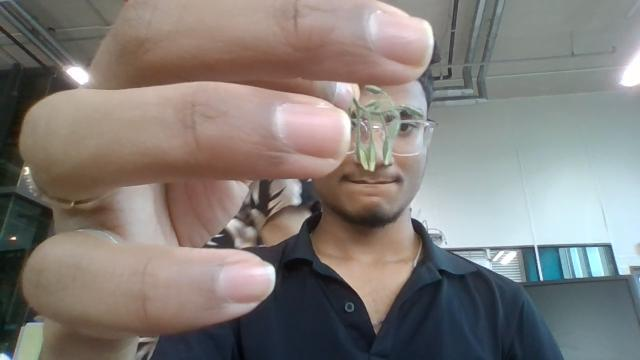Flower Bud: (381, 124, 393, 167), (357, 134, 371, 170), (364, 85, 386, 96)
